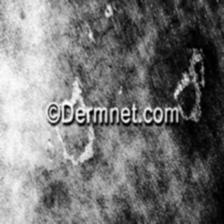Non-Cancerous Skin Condition: (55, 63, 98, 172), (170, 38, 213, 126), (83, 0, 122, 48)
